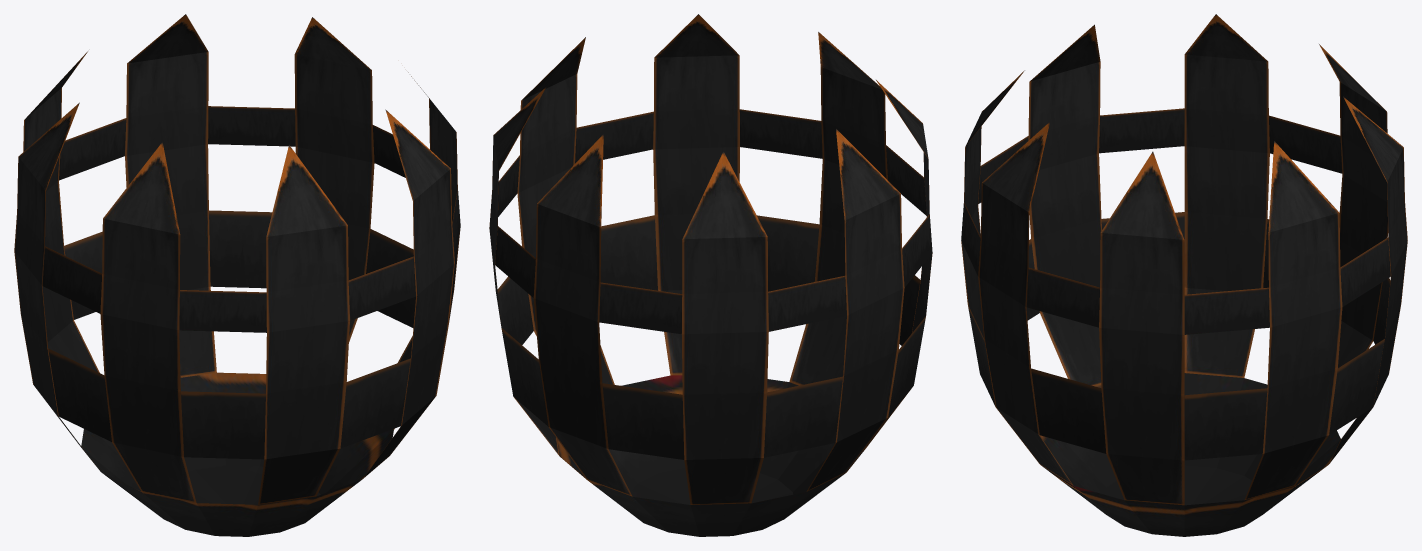
Rendered from brazier_item.FBX.
The picture shows the model from 3 angles, left to right: view 1: azimuth 30°, elevation 25°; view 2: azimuth 150°, elevation 25°; view 3: azimuth 270°, elevation 25°; orthographic projection.
Parts seen in each view (by area): view 1: brazier_item; view 2: brazier_item; view 3: brazier_item.
Boxes of the visible parts, x1,y1,x2,y2 form: brazier_item: [14, 14, 460, 536]; brazier_item: [489, 14, 932, 536]; brazier_item: [961, 14, 1407, 536].
Size of the model in its own units: 20.18 by 21.63 by 20.18.
